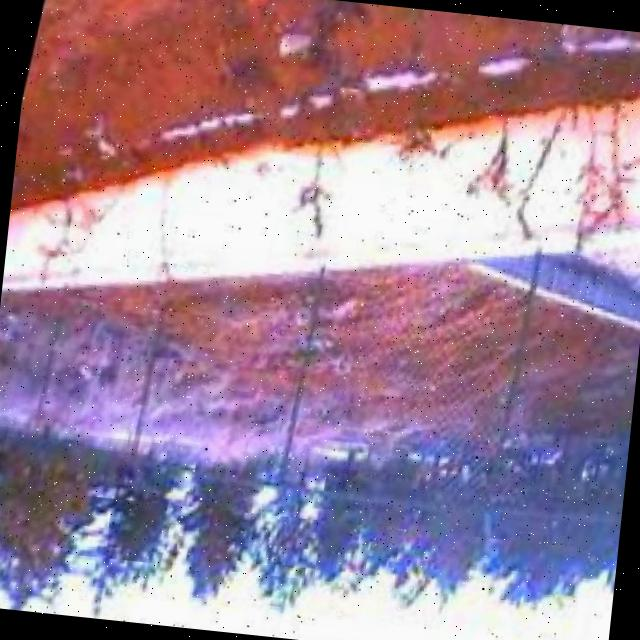fire: (217, 0, 287, 18)
